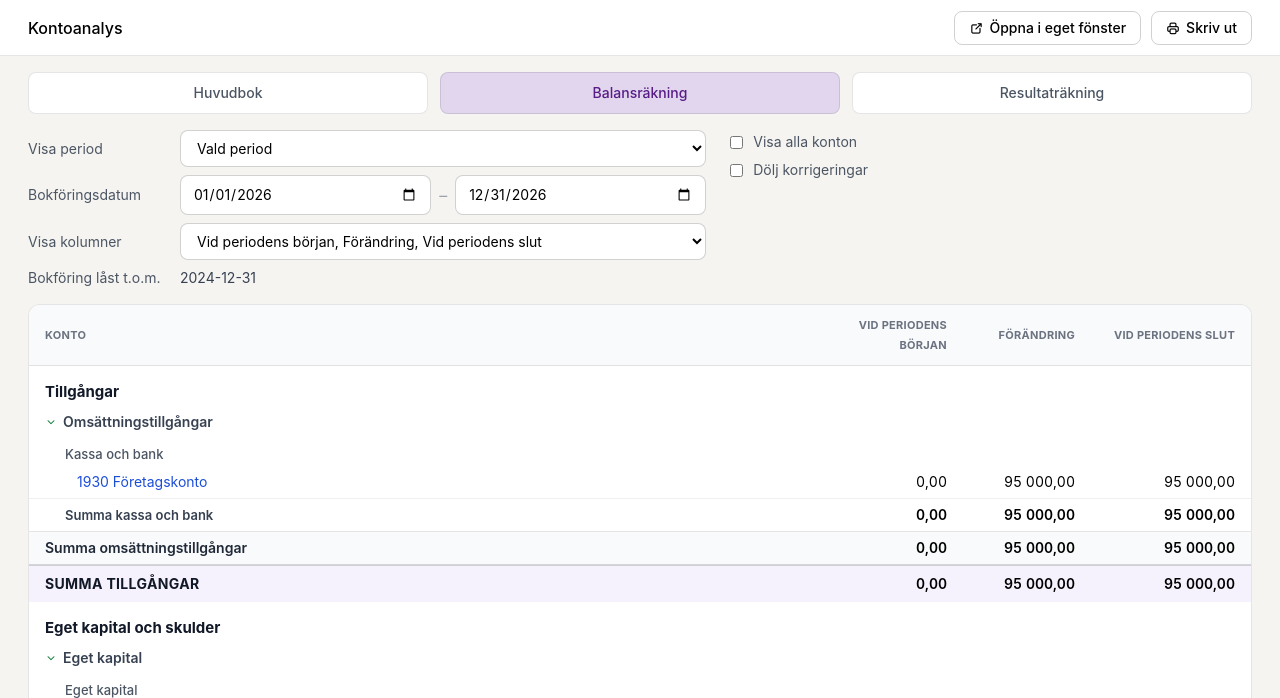
Test: Kontoanalys – Balansräkning › Visa alla konton visar/döljer nollkonton
Expected: the text "Tillgångar" is shown, x1=29 y1=366 x2=1251 y2=406
Expected: the text "1220 Inventarier" is not shown
Click the checkbox labelled "Visa alla konton".
click(737, 142)  # box x1=730 y1=136 x2=743 y2=148
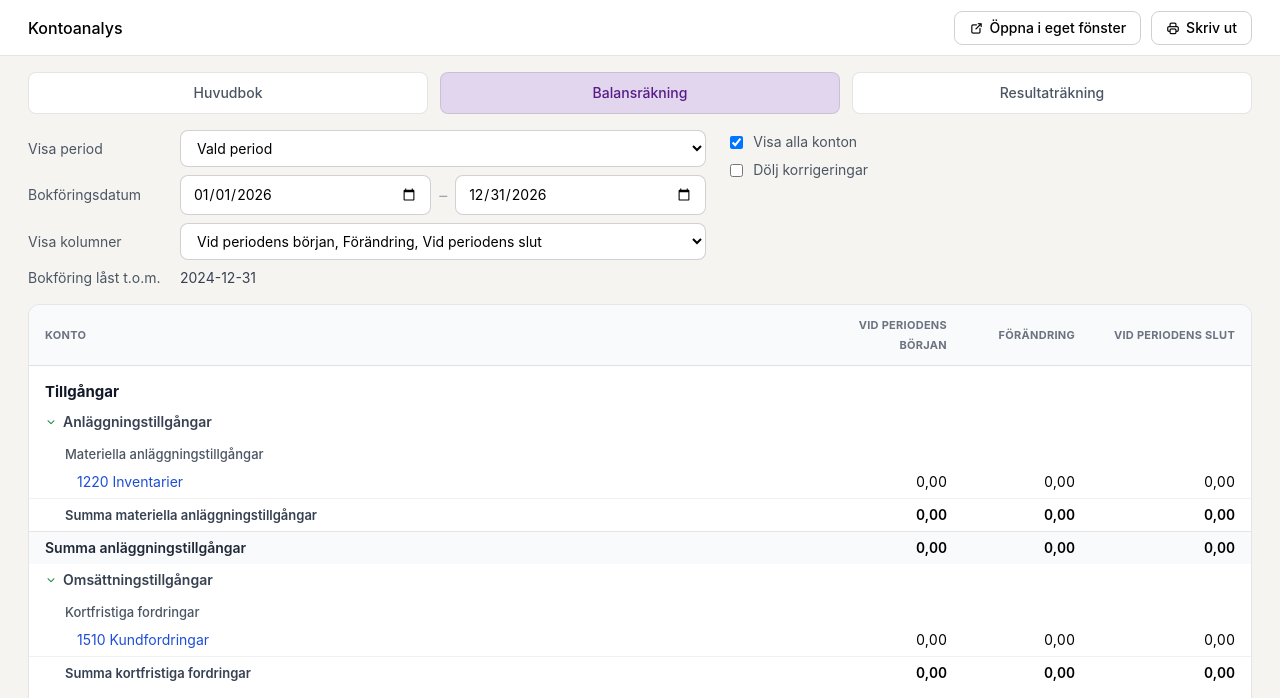
Now the button "1220 Inventarier" is shown, box x1=77 y1=472 x2=183 y2=492
